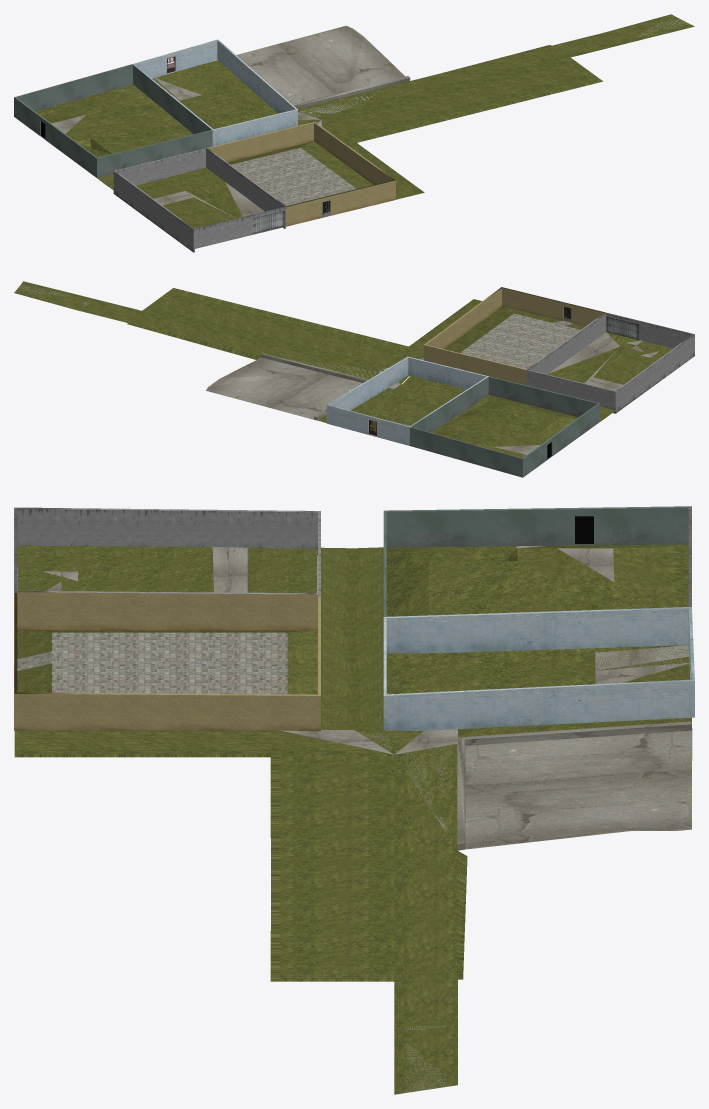
Rendered from lae2_landhub01.obj.
The picture shows the model from 3 angles, top to bottom: view 1: azimuth 30°, elevation 25°; view 2: azimuth 150°, elevation 25°; view 3: azimuth 270°, elevation 25°; orthographic projection. The views are drawn at different scales.
Visible parts, largest first — view 1: lae2_landhub01; view 2: lae2_landhub01; view 3: lae2_landhub01.
Part boxes in pixels (x1,y1,x2,y2): lae2_landhub01: (14, 14, 694, 252); lae2_landhub01: (14, 281, 694, 477); lae2_landhub01: (14, 506, 694, 1094).
Size of the model in its own units: 103 by 5.65 by 53.66.
